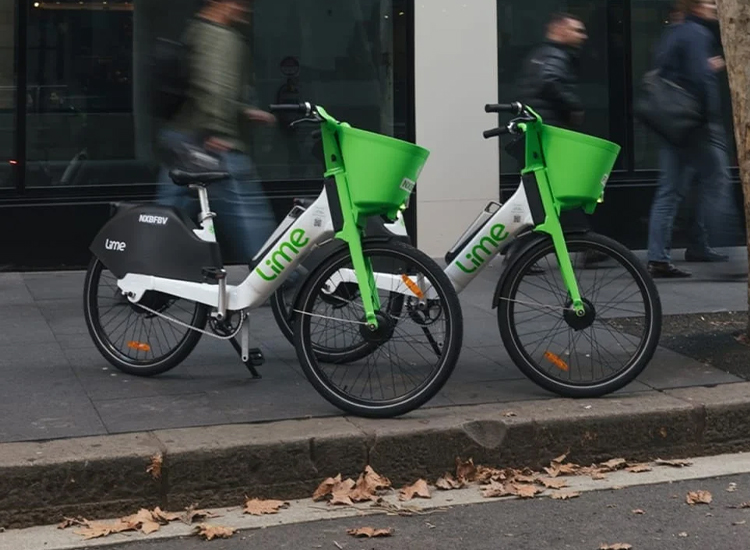Bicycle: (56, 96, 470, 421), (421, 102, 674, 414)
